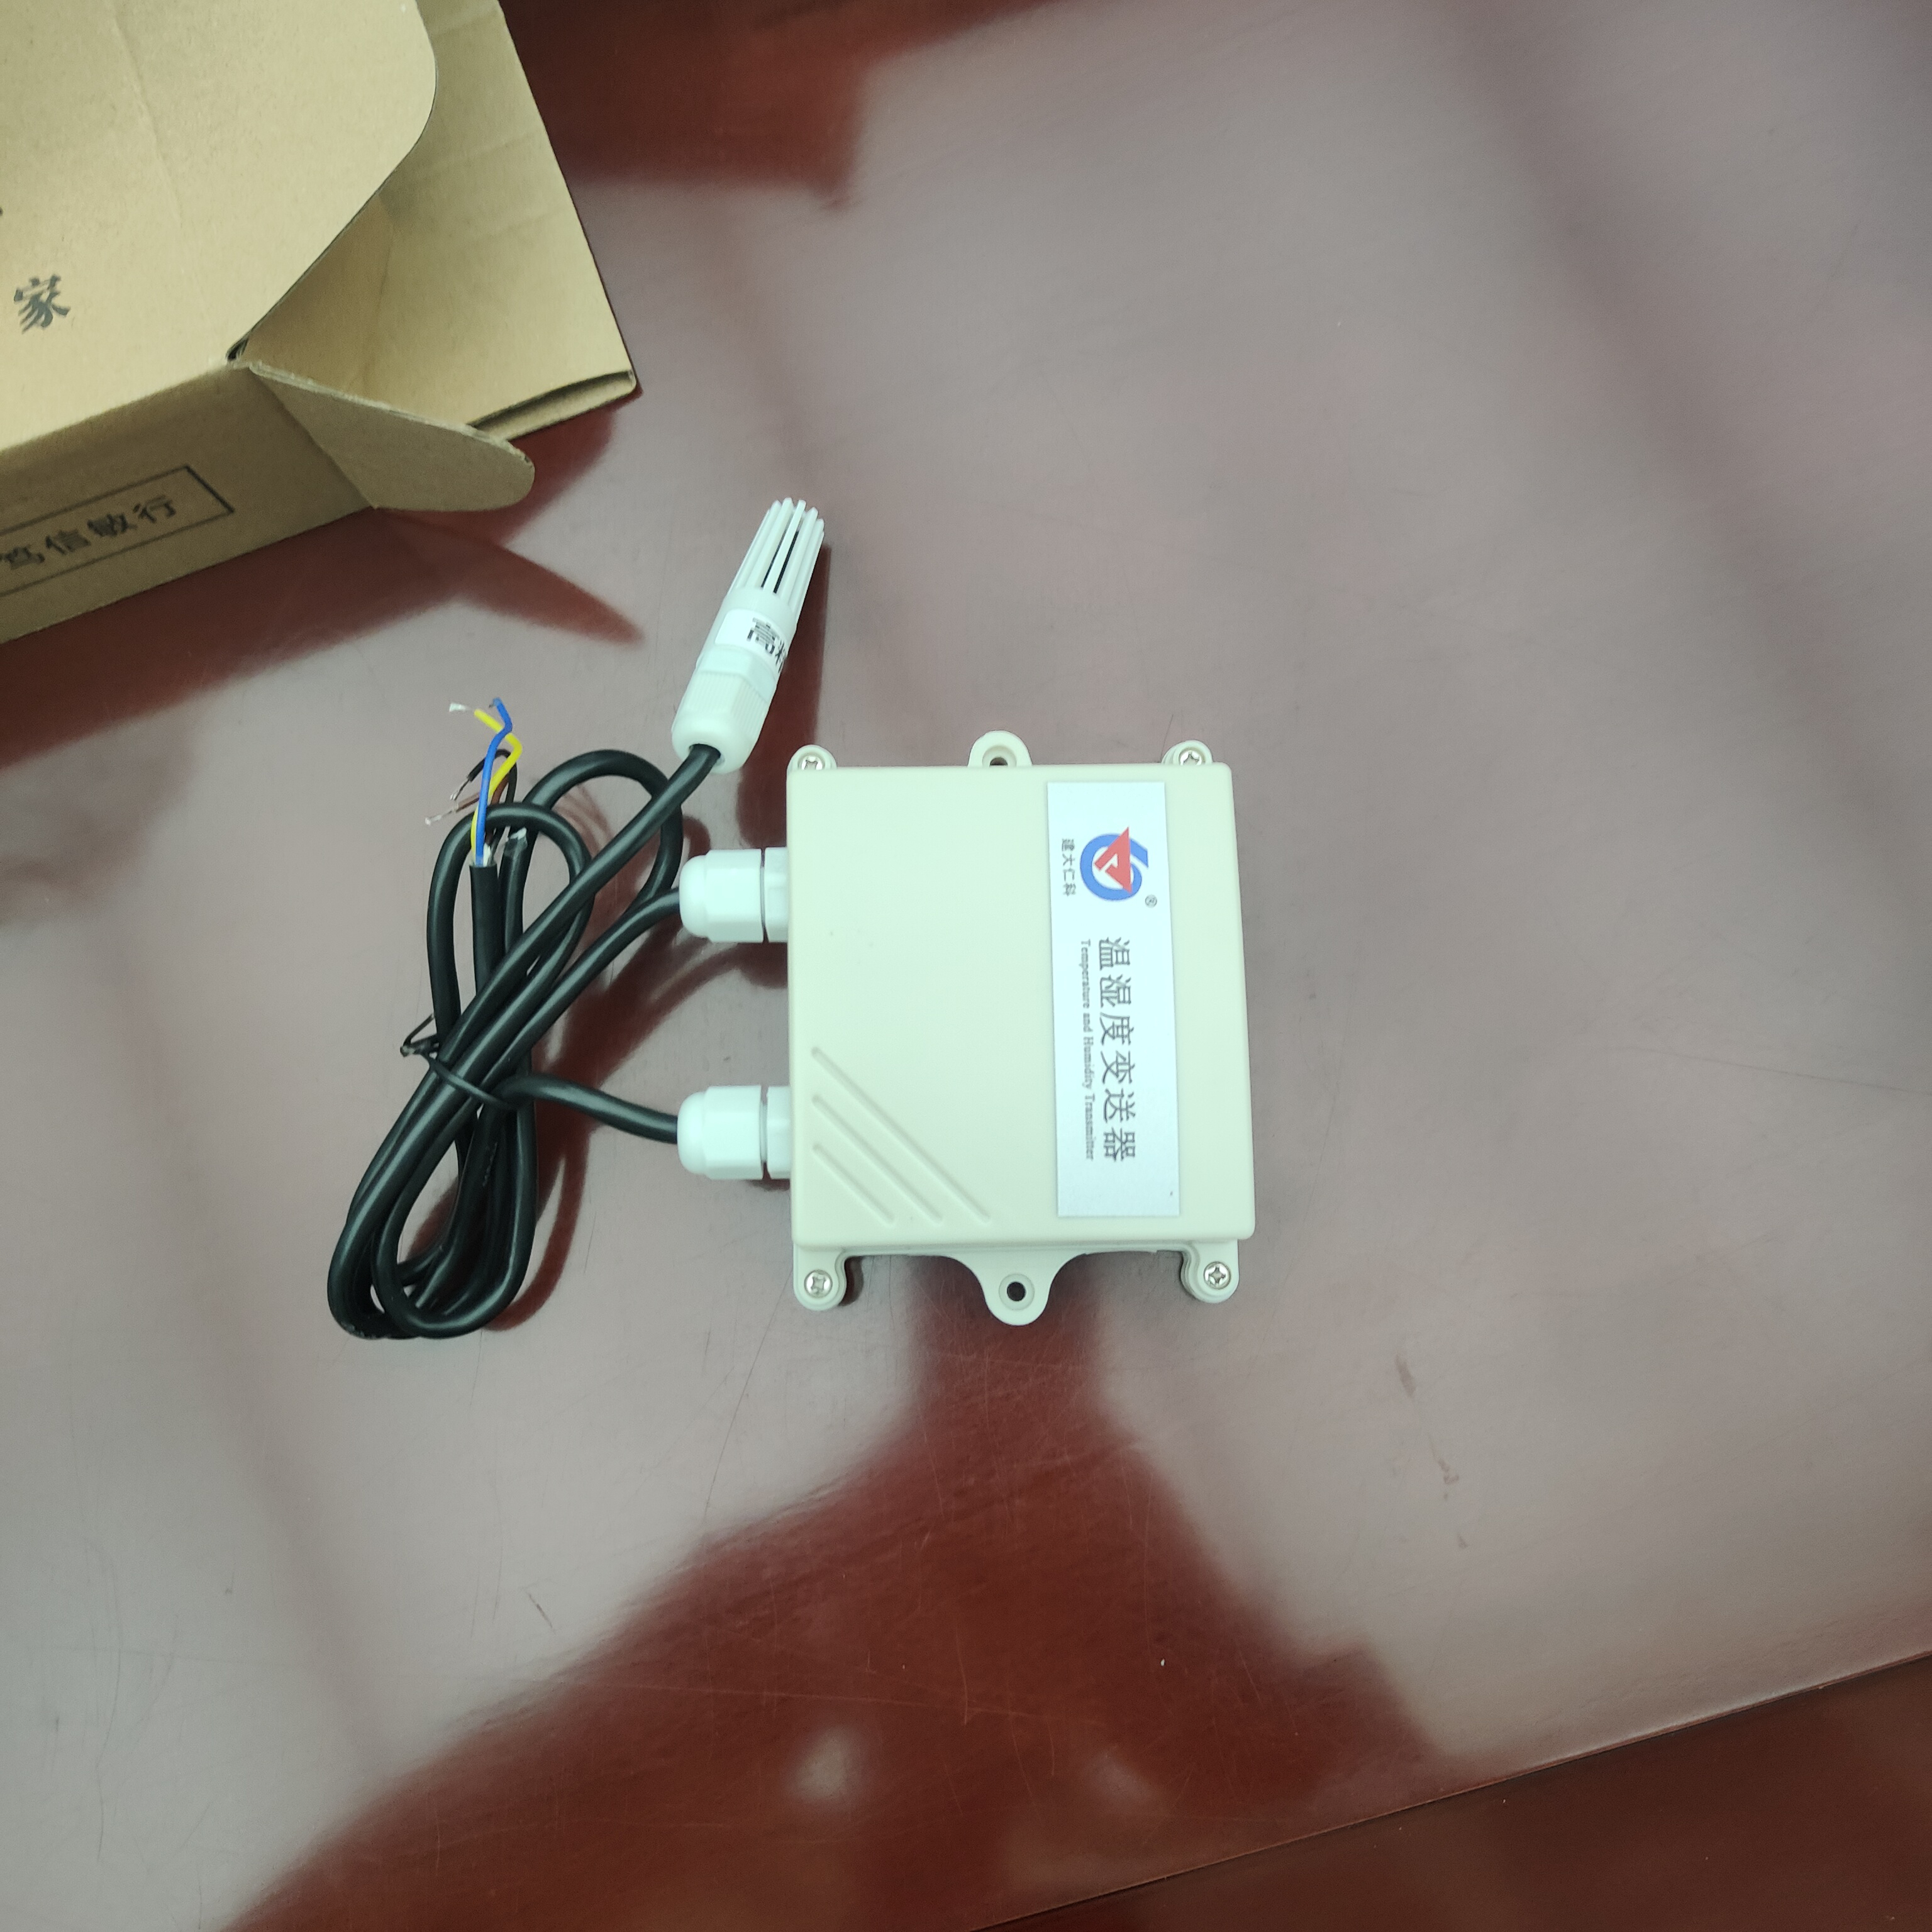wsdbsq: (725, 681, 1299, 1357)
